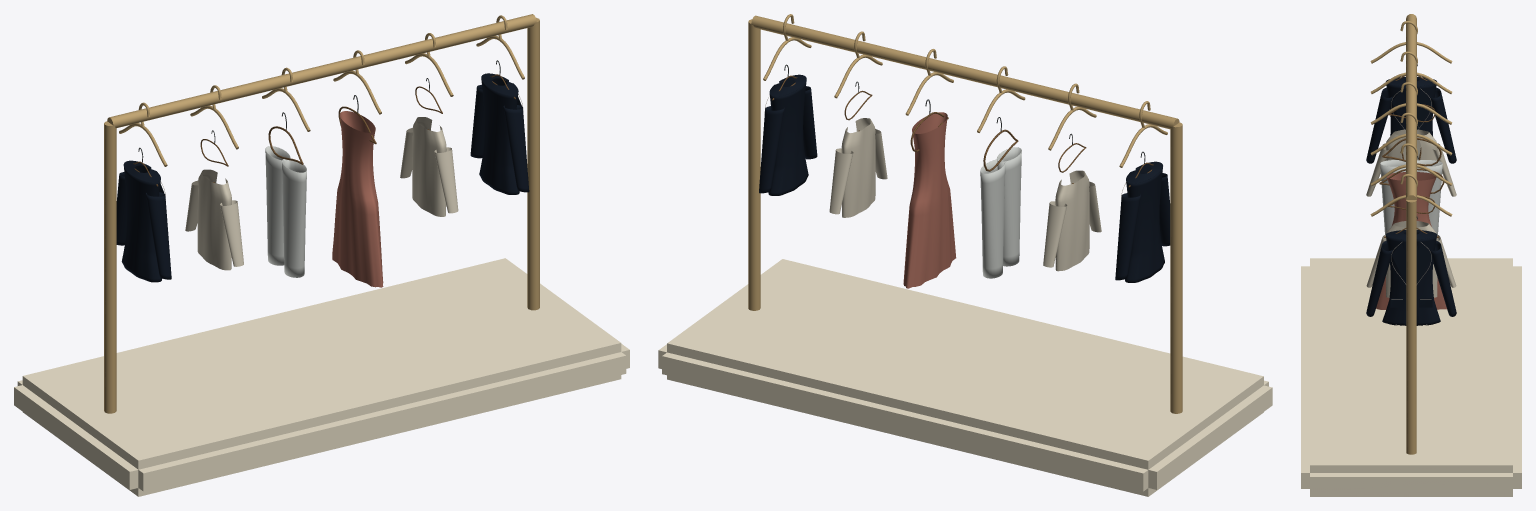
Rendered from kids_rail.glb.
3 views of the same model, side by side, from view 1: azimuth 30°, elevation 25°; view 2: azimuth 150°, elevation 25°; view 3: azimuth 270°, elevation 25° (orthographic). The views are drawn at different scales.
Parts seen in each view (by area): view 1: kids_rail_RIVORA_kids_ivory, kids_rail_Satin_champagne, kids_rail_Woven_3.002, kids_rail_Woven_navy_suiting.003, kids_rail_Woven_navy_suiting.002, kids_rail_Woven_4.002, kids_rail_Woven_1.007, kids_rail_Woven_1.008; view 2: kids_rail_RIVORA_kids_ivory, kids_rail_Satin_champagne, kids_rail_Woven_3.002, kids_rail_Woven_navy_suiting.003, kids_rail_Woven_navy_suiting.002, kids_rail_Woven_4.002, kids_rail_Woven_1.007, kids_rail_Woven_1.008; view 3: kids_rail_RIVORA_kids_ivory, kids_rail_Satin_champagne, kids_rail_Woven_navy_suiting.003, kids_rail_Woven_navy_suiting.002, kids_rail_Woven_3.002, kids_rail_Woven_1.007, kids_rail_Woven_4.002, kids_rail_Woven_1.008.
Part boxes in pixels (x1,y1,x2,y2): kids_rail_RIVORA_kids_ivory: (14,258,629,496); kids_rail_Satin_champagne: (104,14,539,413); kids_rail_Woven_3.002: (332,111,383,287); kids_rail_Woven_navy_suiting.003: (470,73,529,194); kids_rail_Woven_navy_suiting.002: (116,160,171,282); kids_rail_Woven_4.002: (265,146,306,277); kids_rail_Woven_1.007: (185,169,243,270); kids_rail_Woven_1.008: (400,117,458,216); kids_rail_RIVORA_kids_ivory: (658,259,1272,496); kids_rail_Satin_champagne: (748,14,1182,413); kids_rail_Woven_3.002: (903,112,956,288); kids_rail_Woven_navy_suiting.003: (759,74,817,195); kids_rail_Woven_navy_suiting.002: (1115,161,1170,282); kids_rail_Woven_4.002: (980,147,1021,278); kids_rail_Woven_1.007: (1043,170,1101,271); kids_rail_Woven_1.008: (829,118,887,217); kids_rail_RIVORA_kids_ivory: (1301,258,1521,496); kids_rail_Satin_champagne: (1370,14,1452,454); kids_rail_Woven_navy_suiting.003: (1366,230,1456,325); kids_rail_Woven_navy_suiting.002: (1366,77,1456,163); kids_rail_Woven_3.002: (1376,172,1446,309); kids_rail_Woven_1.007: (1366,129,1456,196); kids_rail_Woven_4.002: (1380,160,1442,234); kids_rail_Woven_1.008: (1366,221,1456,297).
Size of the model in its own units: 2.02 by 1.3 by 0.88.
Materials: 22 (8 with a texture image).
